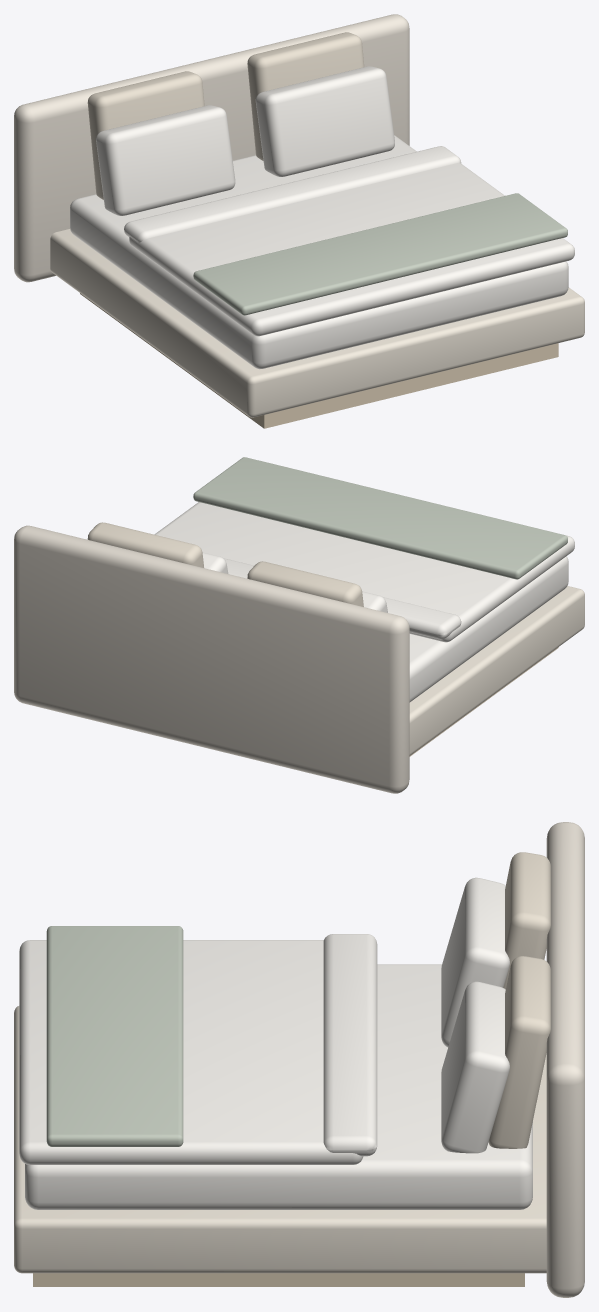
Rendered from mo_bed_queen.glb.
3 renders of one model, top to bottom at view 1: azimuth 30°, elevation 25°; view 2: azimuth 150°, elevation 25°; view 3: azimuth 270°, elevation 25°, orthographic. The views are drawn at different scales.
Visible parts, largest first — view 1: base, duvet, mattress, headboard, throw, pillow0, pillow1, fold, euro1, euro0, plinth; view 2: headboard, throw, duvet, base, mattress, euro0, euro1, fold; view 3: duvet, mattress, base, throw, headboard, fold, pillow1, euro1, plinth, pillow0, euro0.
Boxes of the visible parts, box(x1,y1,x2,y2) form: base: box(50, 229, 584, 417); duvet: box(129, 163, 574, 336); mattress: box(70, 135, 568, 369); headboard: box(14, 14, 409, 282); throw: box(193, 193, 567, 315); pillow0: box(96, 105, 235, 215); pillow1: box(255, 66, 394, 176); fold: box(124, 146, 461, 242); euro1: box(247, 32, 364, 160); euro0: box(87, 71, 204, 199); plinth: box(80, 293, 558, 428); headboard: box(14, 525, 409, 793); throw: box(193, 457, 567, 579); duvet: box(154, 462, 574, 642); base: box(409, 586, 584, 755); mattress: box(409, 556, 568, 702); euro0: box(247, 561, 363, 606); euro1: box(87, 522, 203, 567); fold: box(223, 558, 461, 639); duvet: box(19, 940, 363, 1164); mattress: box(25, 964, 532, 1209); base: box(14, 1006, 546, 1273); throw: box(46, 926, 183, 1146); headboard: box(546, 822, 584, 1297); fold: box(323, 934, 377, 1156); pillow1: box(441, 981, 509, 1153); euro1: box(488, 956, 550, 1148); plinth: box(33, 1273, 524, 1286); pillow0: box(441, 877, 509, 1047); euro0: box(503, 852, 550, 989).
Size of the model in its own units: 2.2 by 1.04 by 2.09.
